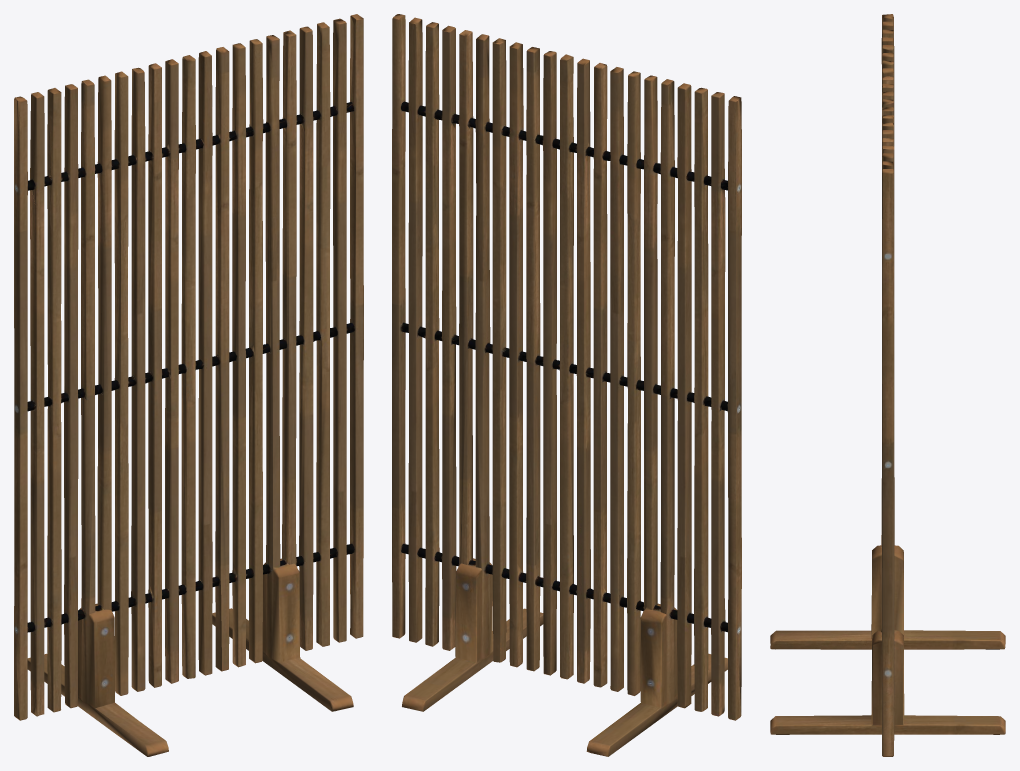
The picture shows the model from 3 angles, left to right: view 1: azimuth 30°, elevation 25°; view 2: azimuth 150°, elevation 25°; view 3: azimuth 270°, elevation 25°; orthographic projection. The views are drawn at different scales.
Parts seen in each view (by area): view 1: ProcessedMeshNode; view 2: ProcessedMeshNode; view 3: ProcessedMeshNode.
Part boxes in pixels (x1,y1,x2,y2): ProcessedMeshNode: [14, 14, 363, 756]; ProcessedMeshNode: [392, 14, 741, 756]; ProcessedMeshNode: [770, 14, 1005, 756].
Size of the model in its own units: 0.8008 by 1.4 by 0.5007.
1 material, 1 textured.
